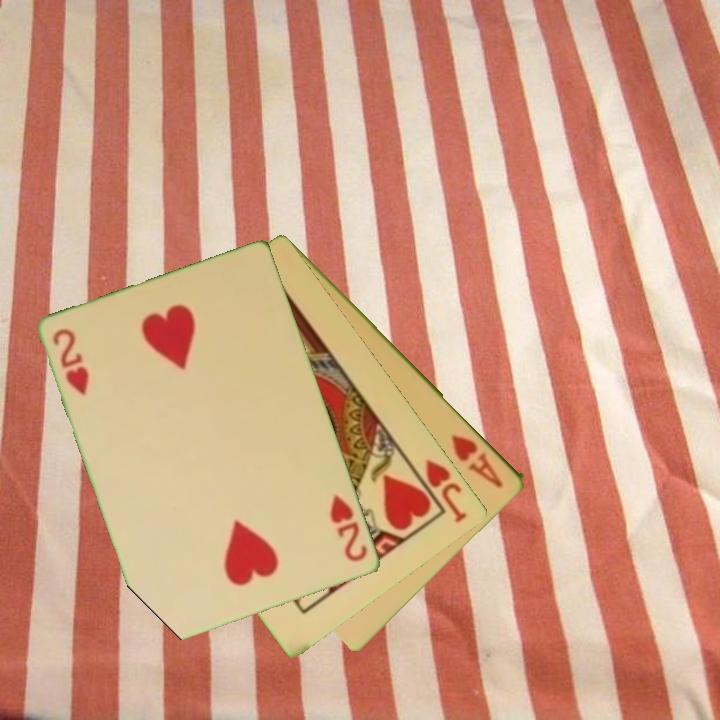2h: (327, 491, 371, 565), (49, 325, 93, 399)
Ah: (448, 431, 507, 491)
Jh: (407, 455, 470, 526)
